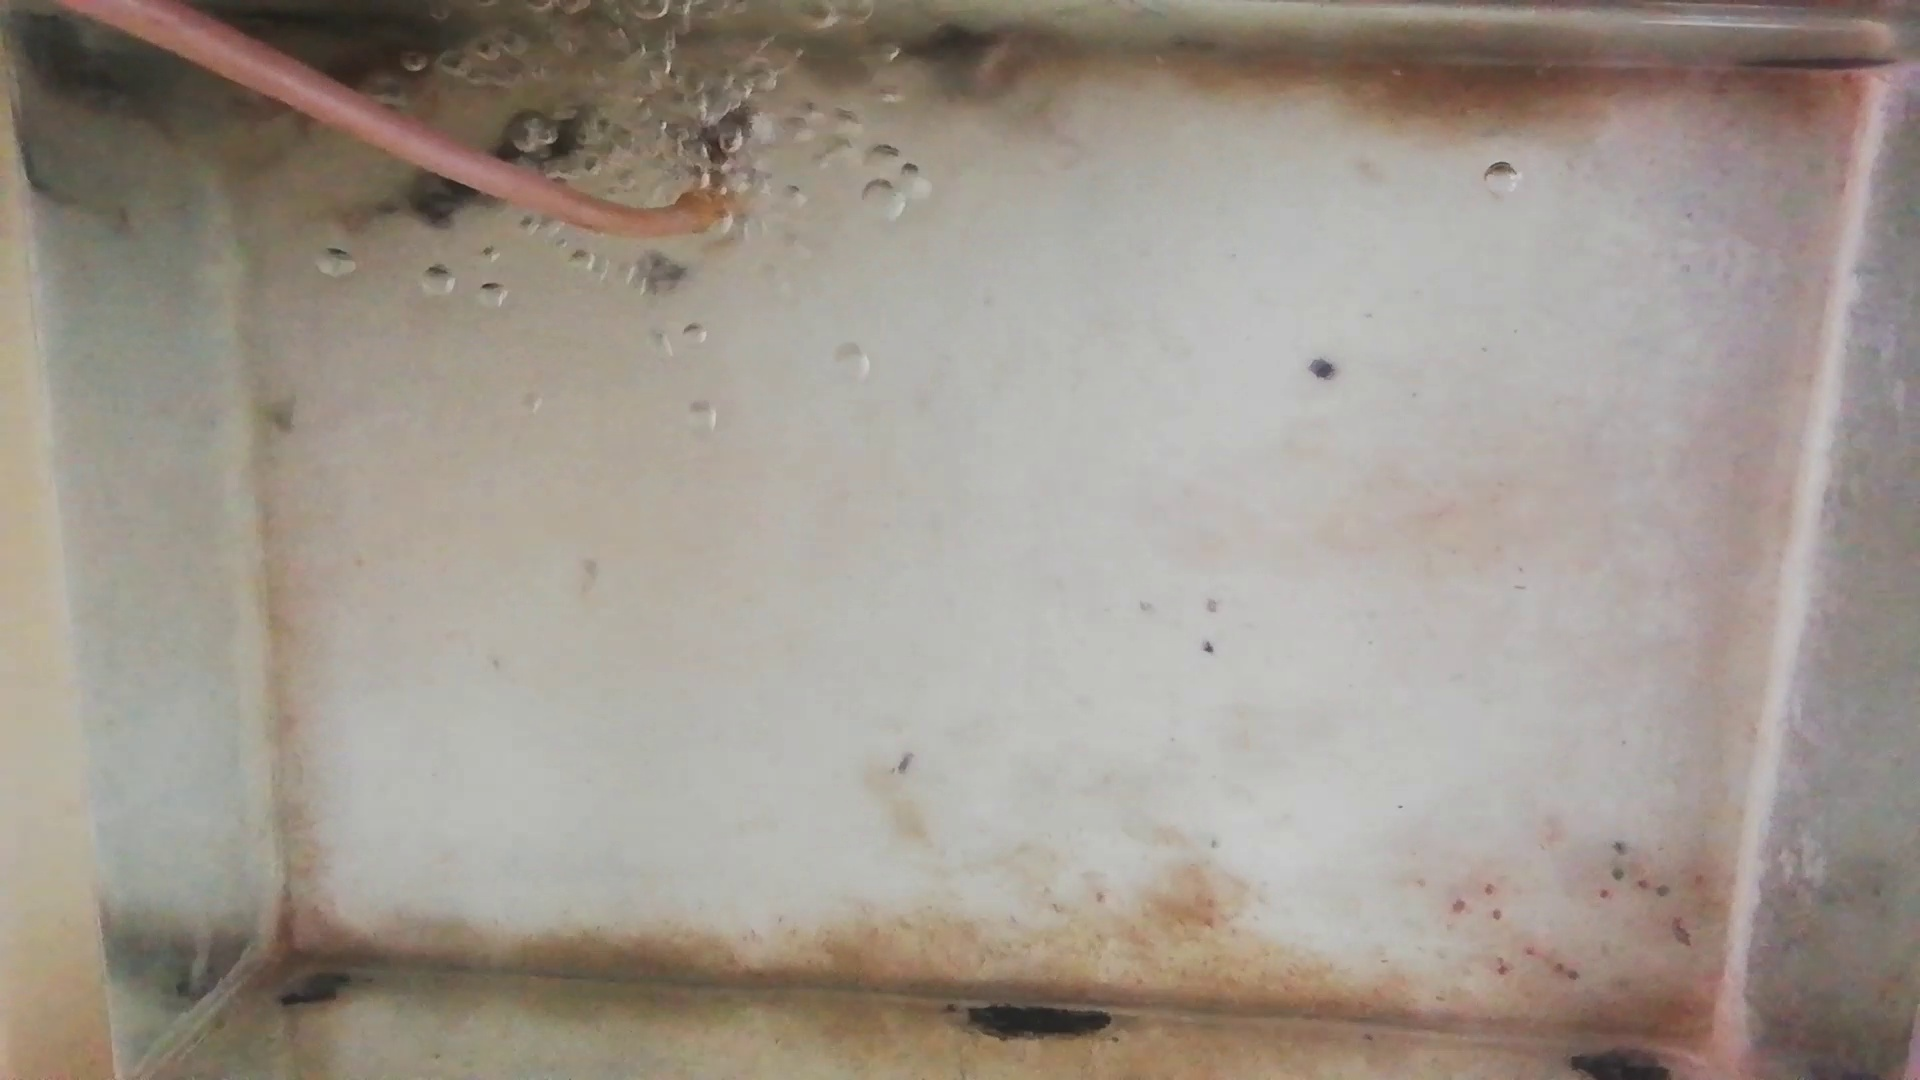fish: (377, 112, 592, 228)
